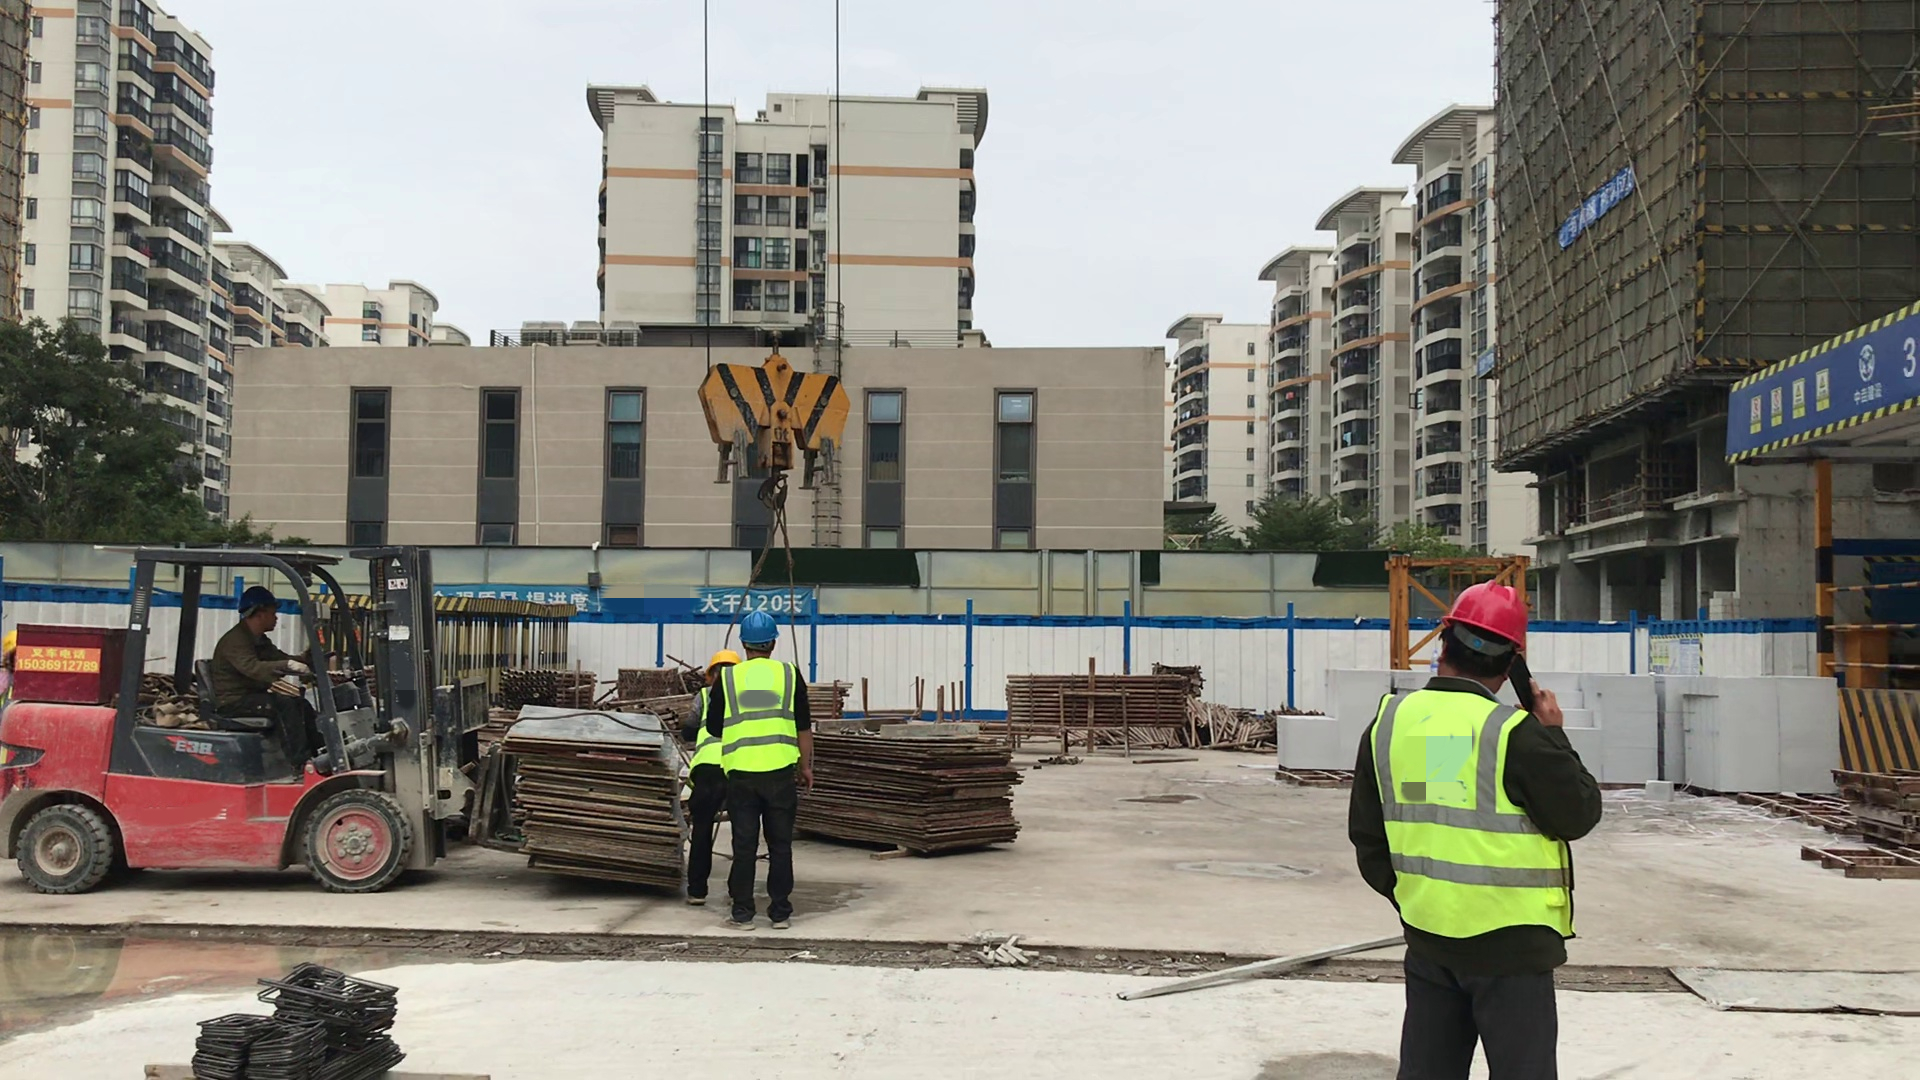board: (510, 732, 681, 883), (801, 729, 1022, 837), (1003, 669, 1197, 741), (807, 677, 847, 723)
brick: (1676, 668, 1846, 804), (1542, 653, 1667, 783), (1257, 704, 1374, 797), (1315, 650, 1397, 711)
helmet: (1437, 572, 1536, 649), (229, 580, 275, 620), (732, 613, 786, 646)
hook: (682, 343, 877, 519)
person: (1343, 578, 1608, 1080), (712, 613, 814, 934), (196, 582, 318, 764), (673, 654, 729, 916)
slogan: (1561, 165, 1638, 250)
vest: (1378, 671, 1574, 950), (718, 666, 810, 772), (693, 686, 739, 771)
